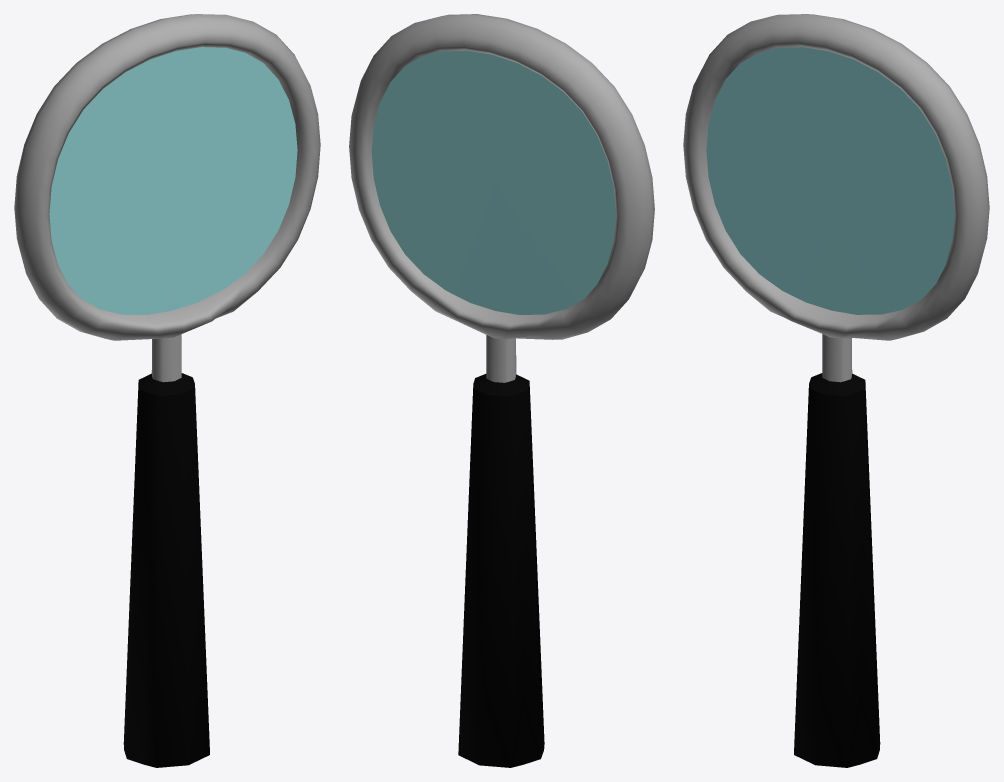
Rendered from magnifying glass.fbx.
The picture shows the model from 3 angles, left to right: view 1: azimuth 30°, elevation 25°; view 2: azimuth 150°, elevation 25°; view 3: azimuth 330°, elevation 25°; orthographic projection.
Parts seen in each view (by area): view 1: pCube6; view 2: pCube6; view 3: pCube6.
Boxes of the visible parts, <box> form: pCube6: <box>14,14,320,767</box>; pCube6: <box>349,14,654,767</box>; pCube6: <box>683,14,989,767</box>.
Size of the model in its own units: 0.3029 by 0.7008 by 0.0762.
